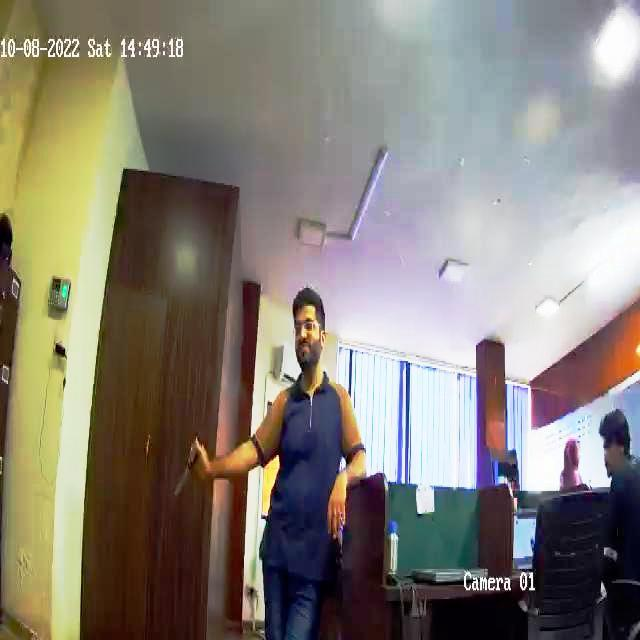Knife: (168, 426, 206, 502)
